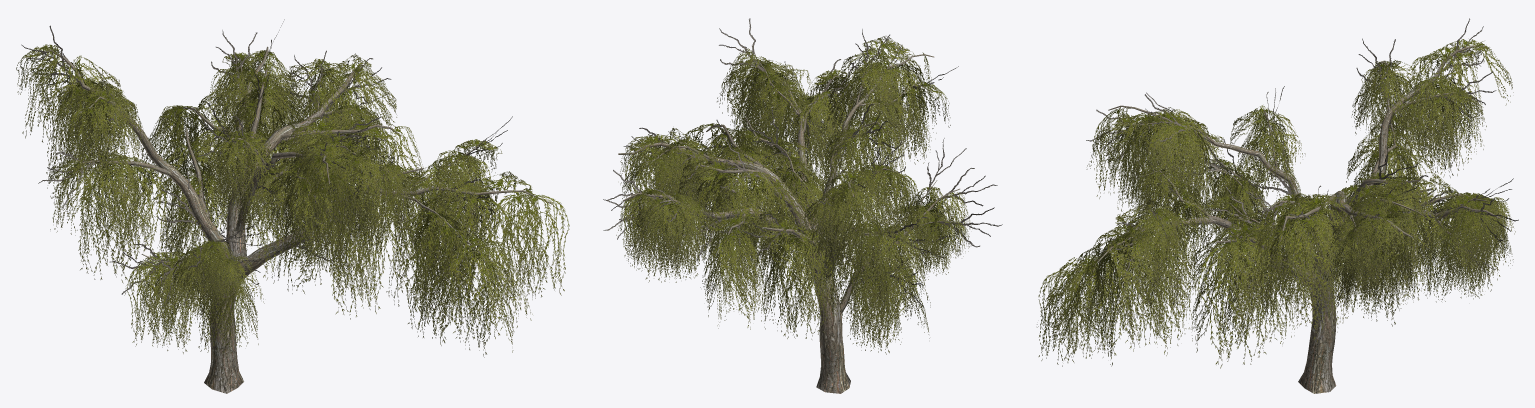
The picture shows the model from 3 angles, left to right: view 1: azimuth 30°, elevation 25°; view 2: azimuth 150°, elevation 25°; view 3: azimuth 270°, elevation 25°; orthographic projection. The views are drawn at different scales.
Visible parts, largest first — view 1: Weeping_willow_11_Weeping_Willow_Leaf_Fall_Mat_0, Weeping_willow_11_Weeping_Willow_Bark_Mat_0, Weeping_willow_11_Weeping_Willow_Branches_Mat_0; view 2: Weeping_willow_11_Weeping_Willow_Leaf_Fall_Mat_0, Weeping_willow_11_Weeping_Willow_Bark_Mat_0, Weeping_willow_11_Weeping_Willow_Branches_Mat_0; view 3: Weeping_willow_11_Weeping_Willow_Leaf_Fall_Mat_0, Weeping_willow_11_Weeping_Willow_Bark_Mat_0, Weeping_willow_11_Weeping_Willow_Branches_Mat_0.
Boxes of the visible parts, bbox=[...] form: Weeping_willow_11_Weeping_Willow_Leaf_Fall_Mat_0: bbox=[16, 44, 569, 358]; Weeping_willow_11_Weeping_Willow_Bark_Mat_0: bbox=[34, 46, 552, 393]; Weeping_willow_11_Weeping_Willow_Branches_Mat_0: bbox=[21, 19, 512, 304]; Weeping_willow_11_Weeping_Willow_Leaf_Fall_Mat_0: bbox=[616, 36, 971, 354]; Weeping_willow_11_Weeping_Willow_Bark_Mat_0: bbox=[618, 40, 959, 393]; Weeping_willow_11_Weeping_Willow_Branches_Mat_0: bbox=[603, 18, 1002, 307]; Weeping_willow_11_Weeping_Willow_Leaf_Fall_Mat_0: bbox=[1037, 39, 1515, 368]; Weeping_willow_11_Weeping_Willow_Bark_Mat_0: bbox=[1059, 45, 1503, 393]; Weeping_willow_11_Weeping_Willow_Branches_Mat_0: bbox=[1086, 18, 1518, 285].
Bounding box in the file's own units: 13.16 × 11 × 14.97.
3 materials, 3 textured.
